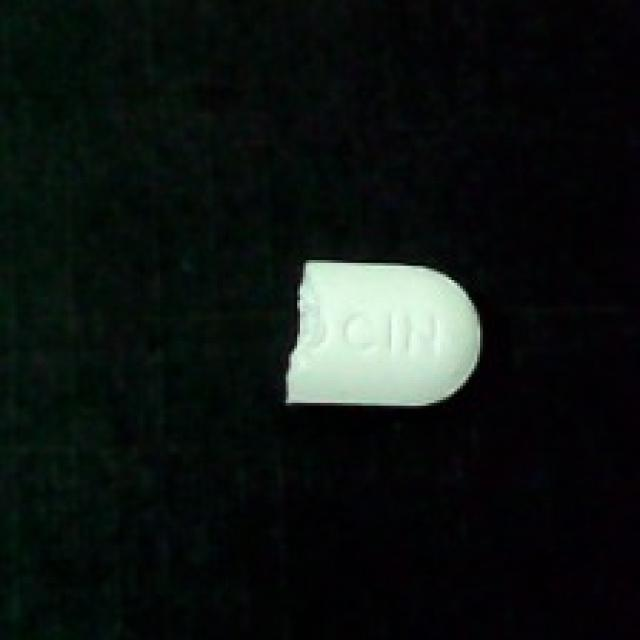defected: (283, 257, 486, 411)
